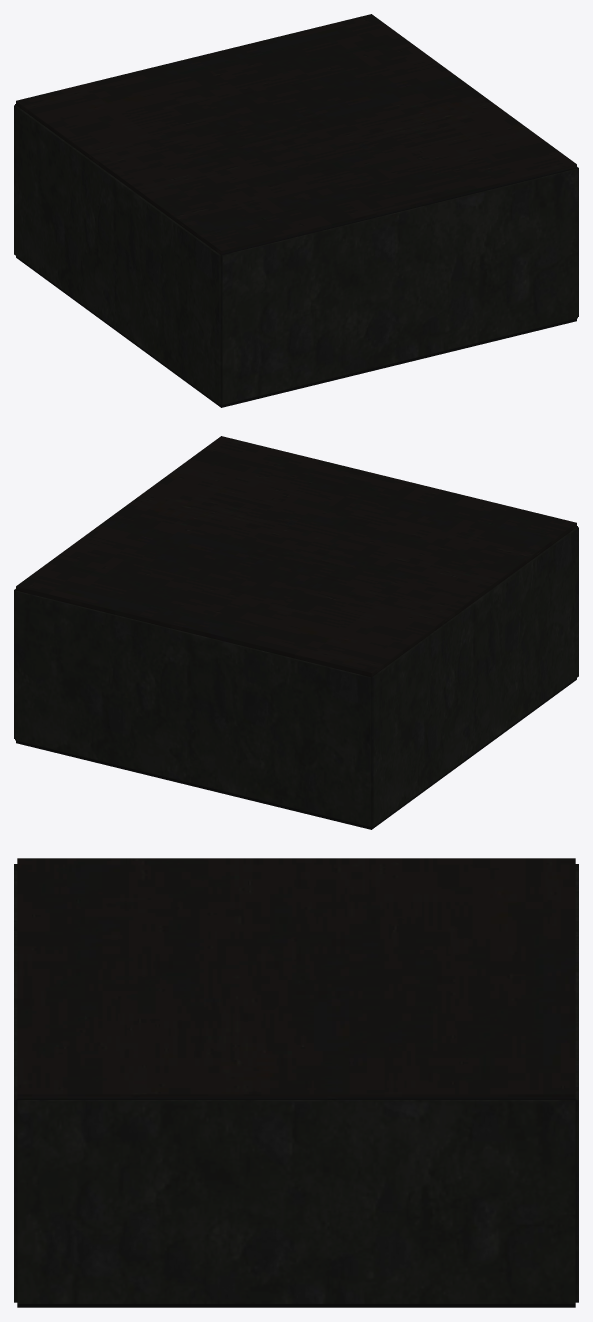
The model's file is druid-room-web-texture-test.glb.
The picture shows the model from 3 angles, top to bottom: view 1: azimuth 30°, elevation 25°; view 2: azimuth 150°, elevation 25°; view 3: azimuth 270°, elevation 25°; orthographic projection. The views are drawn at different scales.
Visible parts, largest first — view 1: Room_Ceiling, Room_Front_Wall, Room_Left_Wall, Editable_Wood_Floor; view 2: Room_Ceiling, Room_Back_Wall_Clean, Room_Left_Wall, Editable_Wood_Floor; view 3: Room_Ceiling, Room_Right_Wall, Editable_Wood_Floor, Room_Front_Wall, Room_Back_Wall_Clean.
Part boxes in pixels (x1,y1,x2,y2): Room_Ceiling: (16, 14, 576, 255); Room_Front_Wall: (221, 168, 577, 404); Room_Left_Wall: (14, 105, 221, 404); Editable_Wood_Floor: (16, 256, 576, 407); Room_Ceiling: (16, 436, 576, 677); Room_Back_Wall_Clean: (15, 590, 371, 826); Room_Left_Wall: (371, 527, 578, 826); Editable_Wood_Floor: (16, 678, 576, 829); Room_Ceiling: (17, 858, 575, 1099); Room_Right_Wall: (17, 1100, 575, 1303); Editable_Wood_Floor: (17, 1304, 575, 1307); Room_Front_Wall: (14, 864, 17, 1302); Room_Back_Wall_Clean: (575, 864, 578, 1302).
Size of the model in its own units: 7.08 by 2.95 by 7.08.
Materials: 56 (49 with a texture image).
